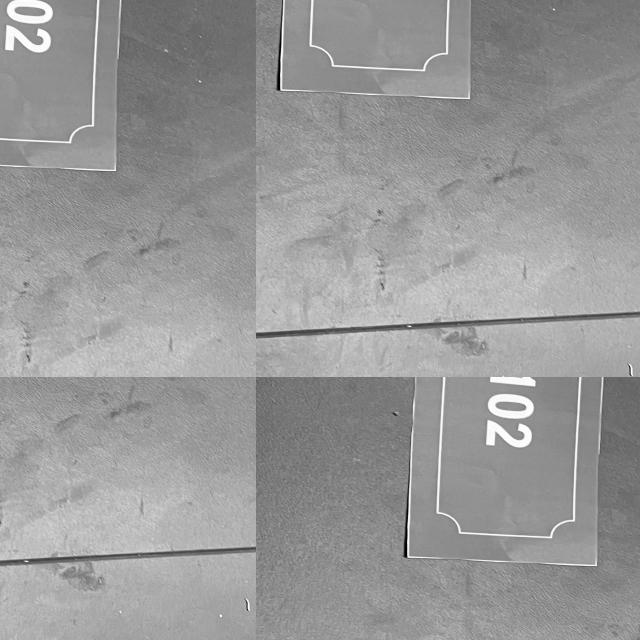Card: (376, 377, 640, 588), (256, 0, 480, 218), (0, 377, 112, 409), (0, 0, 71, 16)
